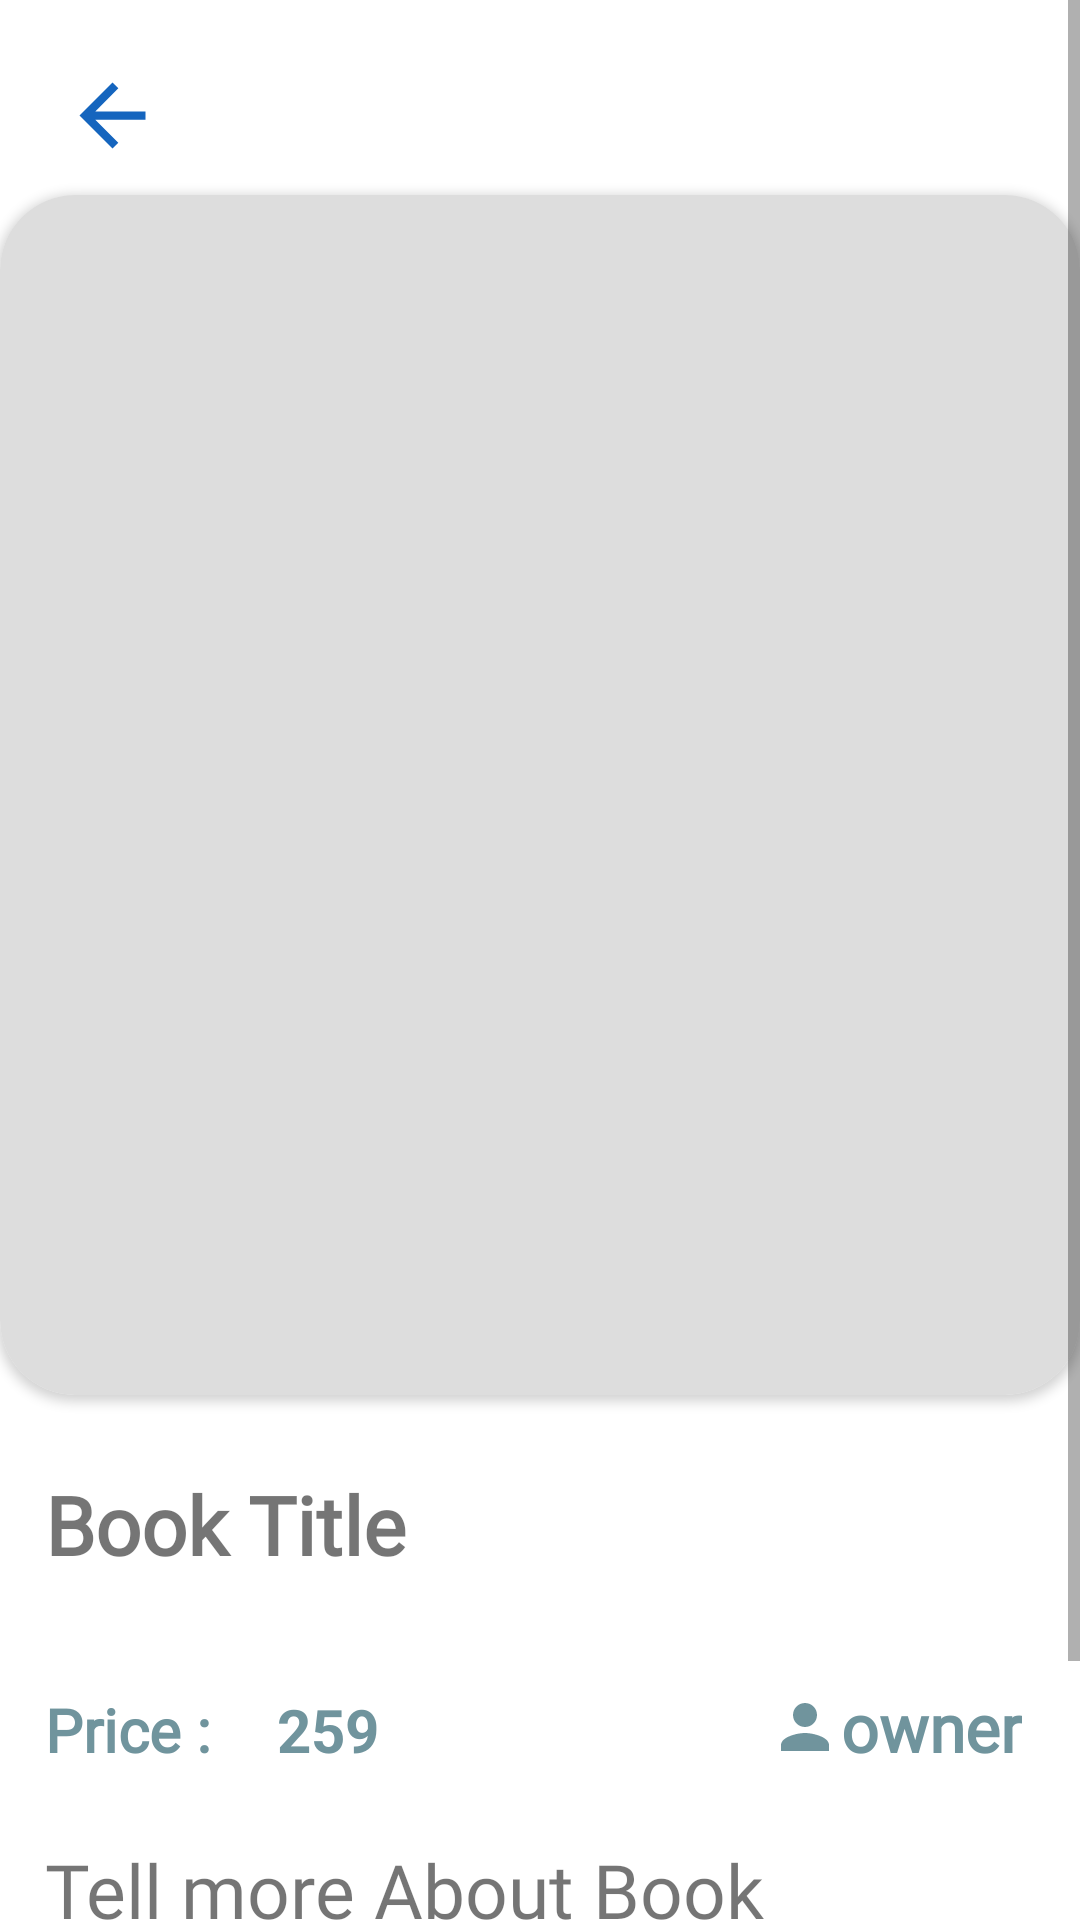

Where icons sit on this 1080×1920 app screen, as BBox(x1, y1, x2, y2):
arrow back: BBox(79, 82, 146, 149)
